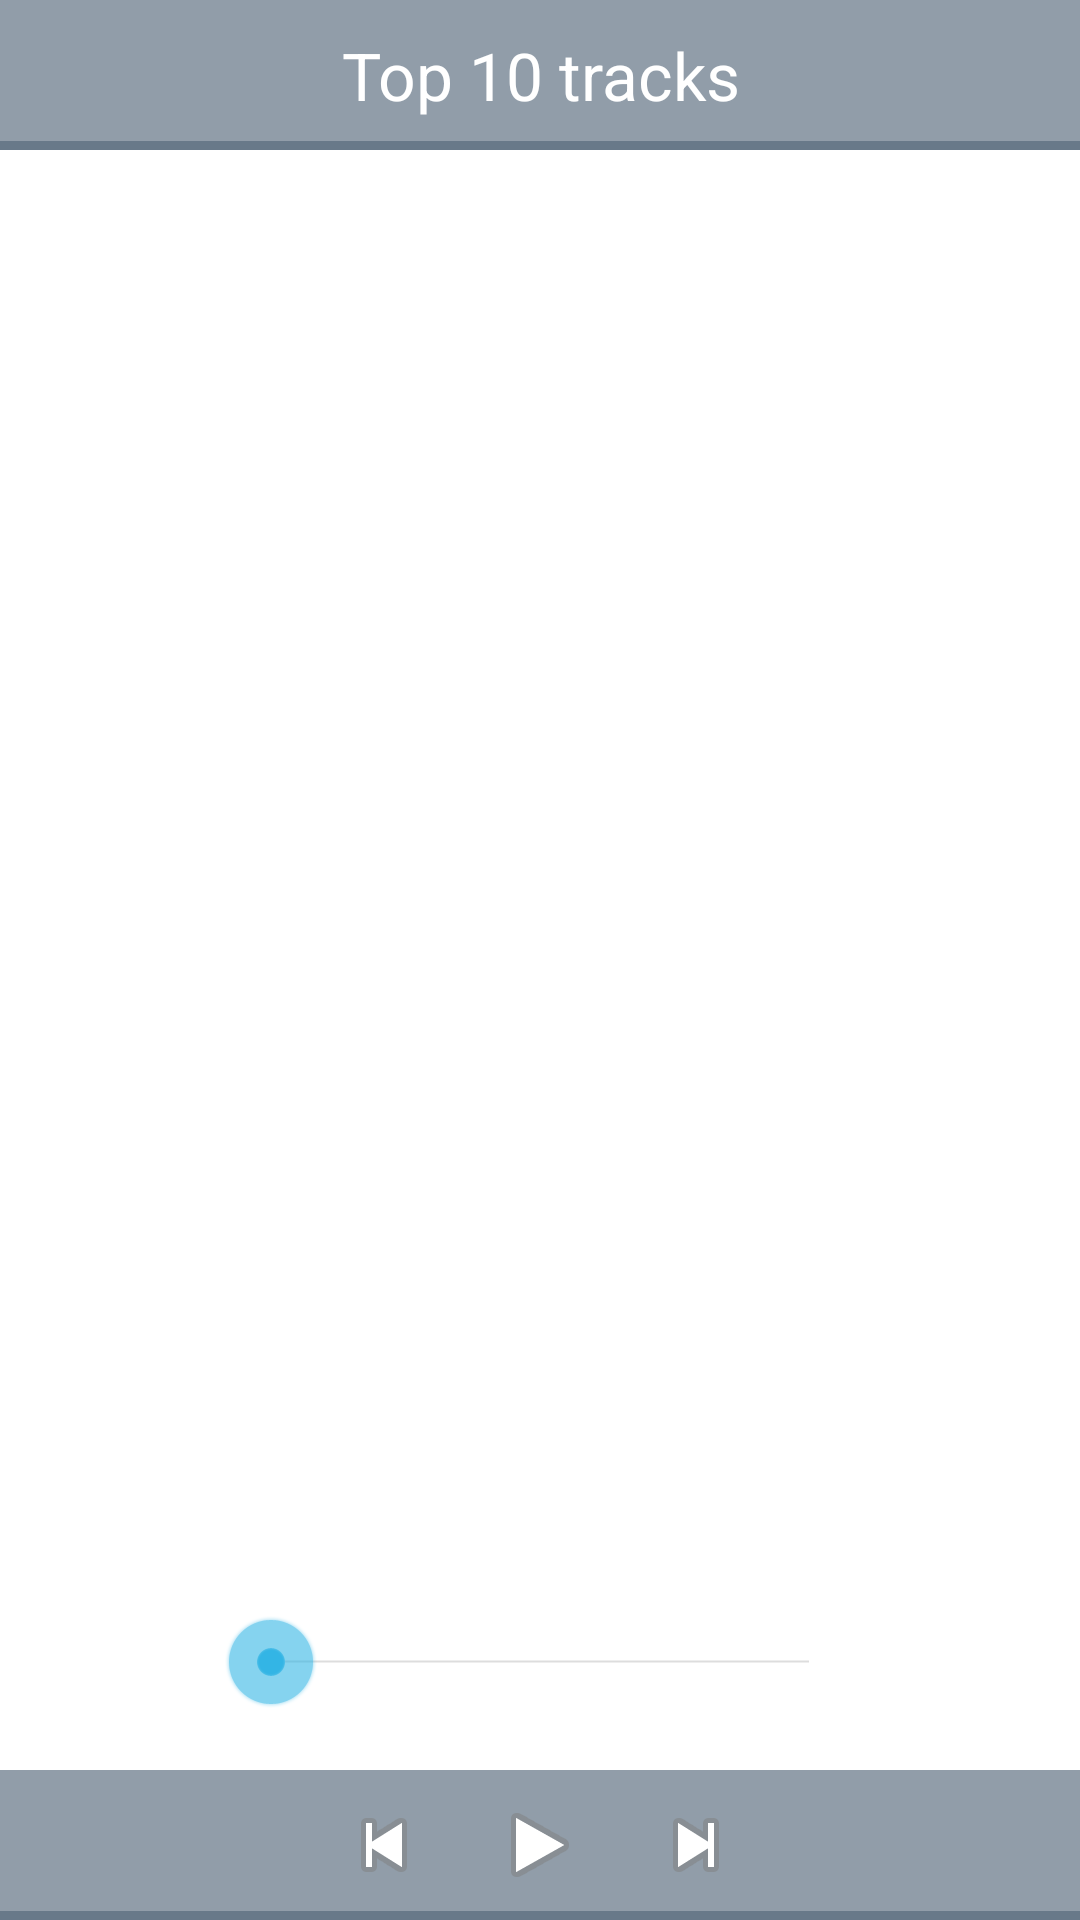

Icon click points for this 1080 × 1920 phone screenshot, format (x=x, y=y):
next: (x=696, y=1845)
play: (x=540, y=1845)
previous: (x=384, y=1845)
